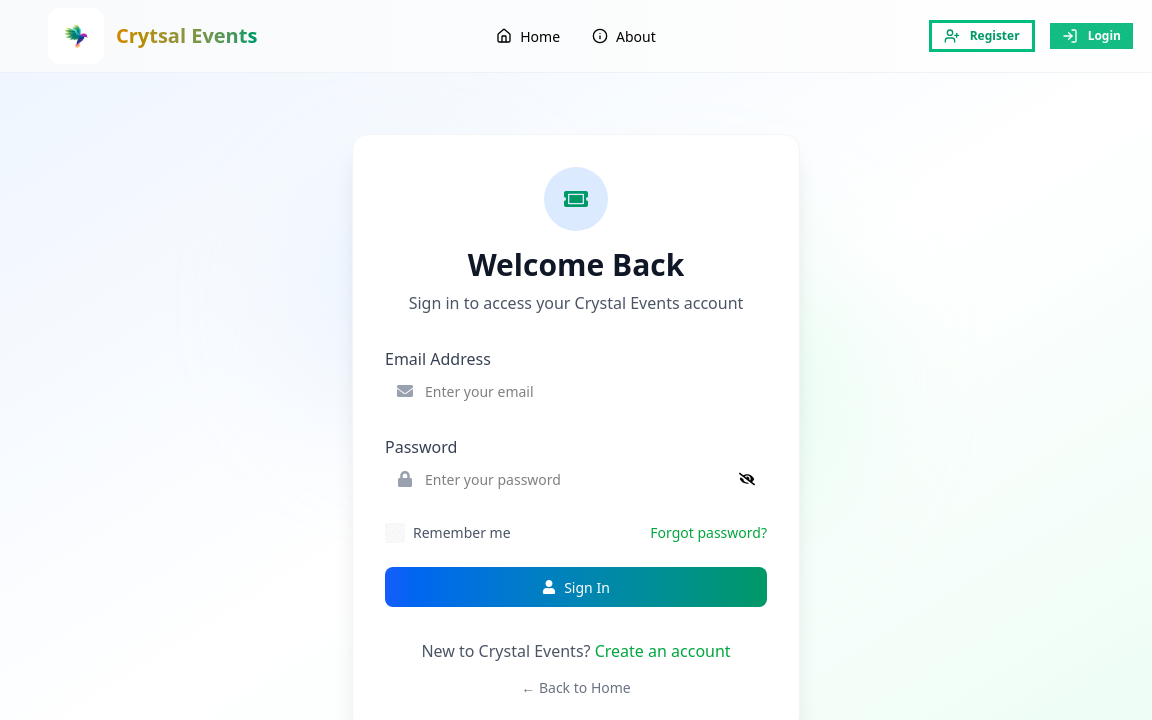
Login Component › should show validation error for short password
This screenshot has width=1152, height=720.
Type "123" into the password field with test id "login-password-input".
click(576, 479); type("123")  # box [385, 459, 767, 499]
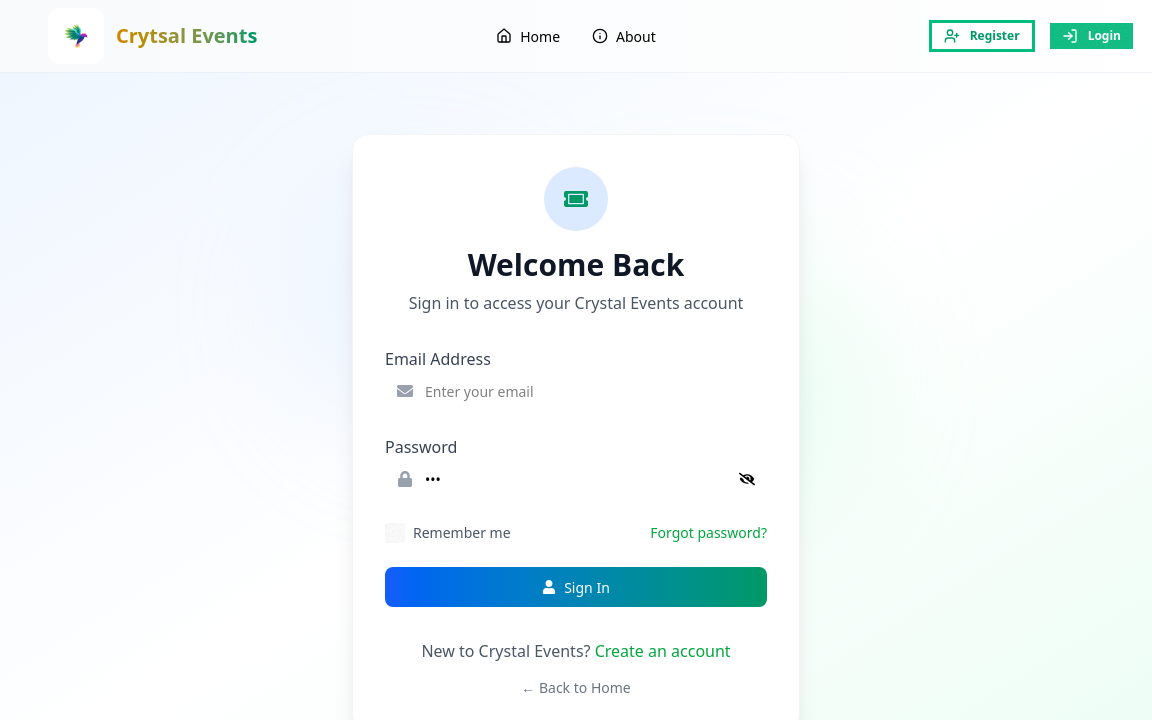
Click the button with test id "login-submit-button".
click(576, 587)  # box [385, 567, 767, 607]
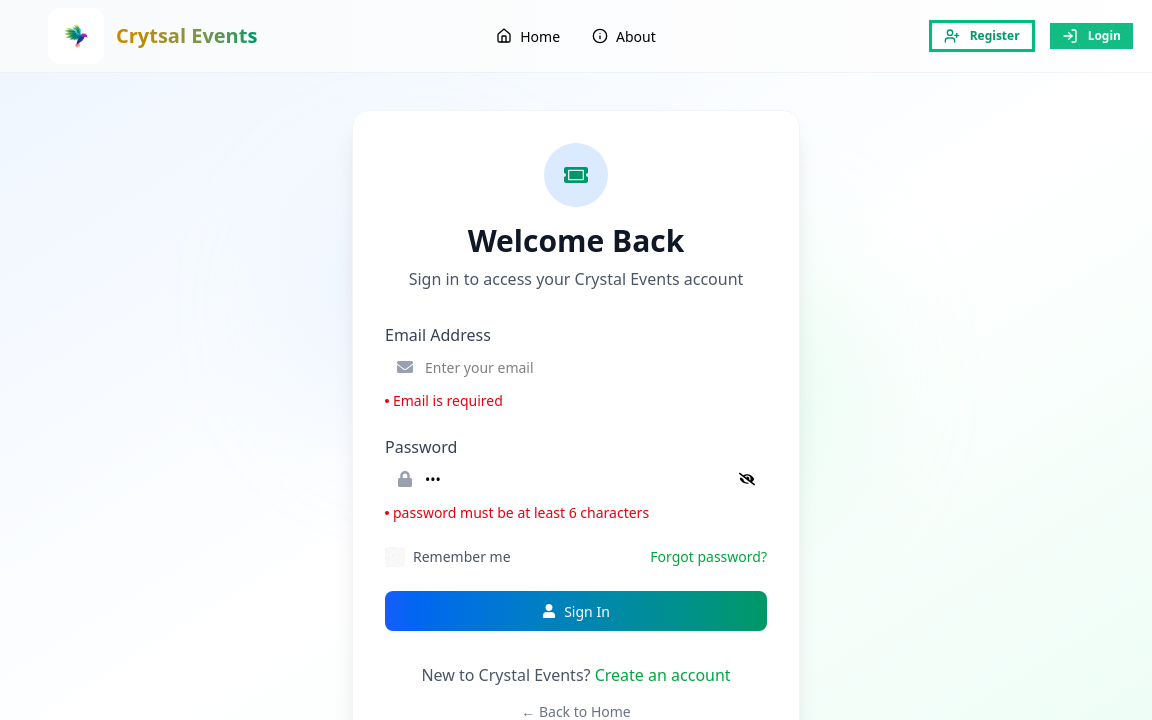
Expected: the element with test id "password-error" reads "password must be at least 6 characters", [385, 503, 649, 522]
